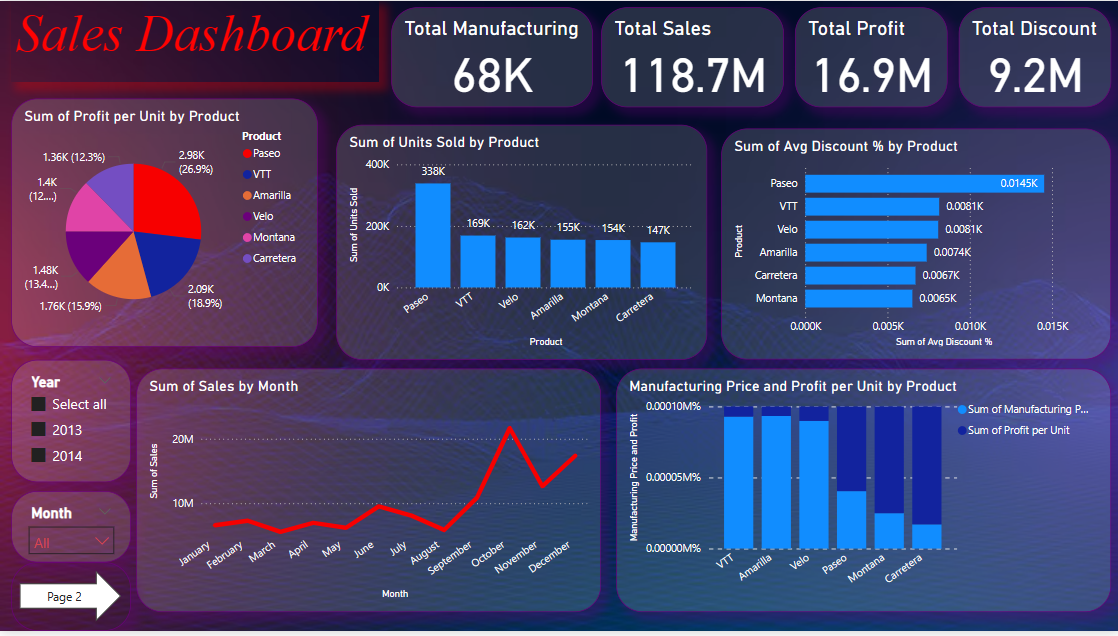

The dashboard page shown, as its layout file describes it:
{"tool":"powerbi","page":{"name":"Page 1","canvas":[1280,720],"ordinal":0},"visuals":[{"type":"textbox","box":[12.9,0,420,92.9],"z":0},{"type":"pieChart","fields":{"Category":["Table2.Product"],"Y":["Sum(Table2.Profit per Unit)"]},"box":[12.9,111.4,350,284.3],"z":1000},{"type":"card","title":"Total Profit","fields":{"Values":["Sum(Table2.Profit)"]},"box":[908.6,7.1,174.3,114.3],"z":2000},{"type":"card","title":"Total Sales","fields":{"Values":["Sum(Table2. Sales)"]},"box":[687.1,7.1,208.6,114.3],"z":3000},{"type":"card","title":"Total Discount","fields":{"Values":["Sum(Table2.Discounts)"]},"box":[1095.7,7.1,174.3,114.3],"z":4000},{"type":"card","title":"Total Manufacturing","fields":{"Values":["Sum(Table2.Manufacturing Price)"]},"box":[447.1,7.1,230,114.3],"z":5000},{"type":"slicer","title":"Year","fields":{"Values":["Table2.Date.Variation.Date Hierarchy.Year"]},"box":[12.9,410,137.1,140],"z":6000},{"type":"slicer","fields":{"Values":["Table2.Date.Variation.Date Hierarchy.Month"]},"box":[12.9,560,137.1,81.4],"z":7000},{"type":"clusteredColumnChart","fields":{"Category":["Table2.Product"],"Y":["Sum(Table2.Units Sold)"]},"box":[384.3,141.4,424.3,268.6],"z":8000},{"type":"barChart","fields":{"Category":["Table2.Product"],"Y":["Sum(Table2.Avg Discount %)"]},"box":[824.3,145.7,445.7,264.3],"z":9000},{"type":"lineChart","fields":{"Category":["Table2.Date.Variation.Date Hierarchy.Month"],"Y":["Sum(Table2. Sales)"]},"box":[155.7,420,531.4,278.6],"z":10000},{"type":"hundredPercentStackedColumnChart","title":"Manufacturing Price and Profit per Unit by Product","fields":{"Y":["Sum(Table2.Manufacturing Price)","Sum(Table2.Profit per Unit)"],"Category":["Table2.Product"]},"box":[704.3,420,565.7,278.6],"z":11000},{"type":"pageNavigator","box":[13.3,641.7,136.7,78.3],"z":12000}]}

Visuals, with their boxes in screenshot pixels (x1, y1, x2, y2), scaled from the page's 1280x720 canvas onto the 1118x636 screenshot:
textbox: <region>11, 0, 378, 82</region>
pieChart - Table2.Product x Sum(Table2.Profit per Unit): <region>11, 98, 317, 350</region>
"Total Profit" card: <region>794, 6, 946, 107</region>
"Total Sales" card: <region>600, 6, 782, 107</region>
"Total Discount" card: <region>957, 6, 1109, 107</region>
"Total Manufacturing" card: <region>391, 6, 591, 107</region>
"Year" slicer: <region>11, 362, 131, 486</region>
slicer - Table2.Date.Variation.Date Hierarchy.Month: <region>11, 495, 131, 567</region>
clusteredColumnChart - Table2.Product x Sum(Table2.Units Sold): <region>336, 125, 706, 362</region>
barChart - Table2.Product x Sum(Table2.Avg Discount %): <region>720, 129, 1109, 362</region>
lineChart - Table2.Date.Variation.Date Hierarchy.Month x Sum(Table2. Sales): <region>136, 371, 600, 617</region>
"Manufacturing Price and Profit per Unit by Product" hundredPercentStackedColumnChart: <region>615, 371, 1109, 617</region>
pageNavigator: <region>12, 567, 131, 635</region>
